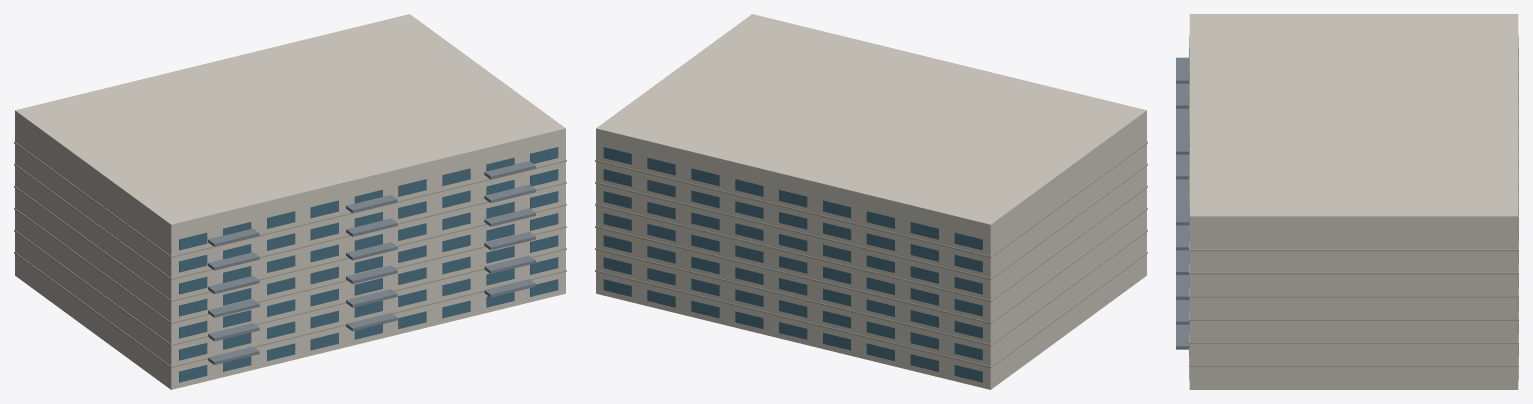
Rendered from source.glb.
The picture shows the model from 3 angles, left to right: view 1: azimuth 30°, elevation 25°; view 2: azimuth 150°, elevation 25°; view 3: azimuth 270°, elevation 25°; orthographic projection. The views are drawn at different scales.
Visible parts, largest first — view 1: worldgen; view 2: worldgen; view 3: worldgen.
Part boxes in pixels (box(x1,y1,x2,y2)): worldgen: box(14, 14, 566, 389); worldgen: box(595, 14, 1147, 389); worldgen: box(1176, 14, 1518, 389).
Bounding box in the file's own units: 70.2 × 28 × 50.1.
